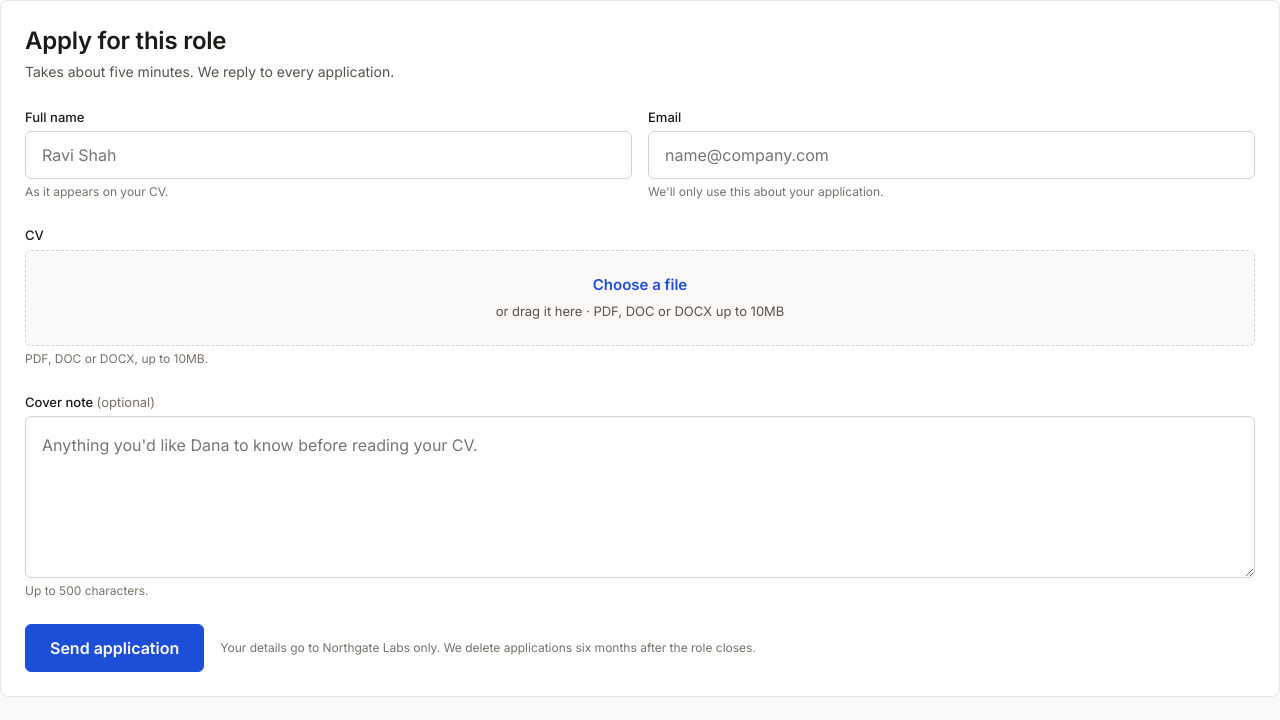
Test: ApplicationFormComponent › blocks submission and flags name, email, and CV when all are missing (AC-6)
The image size is (1280, 720).
What coordinates should you click on to do the following:
click the button with class "hf-button--primary"
I would click on:
 (115, 648)
Its box is top-left (25, 624), bottom-right (204, 672).
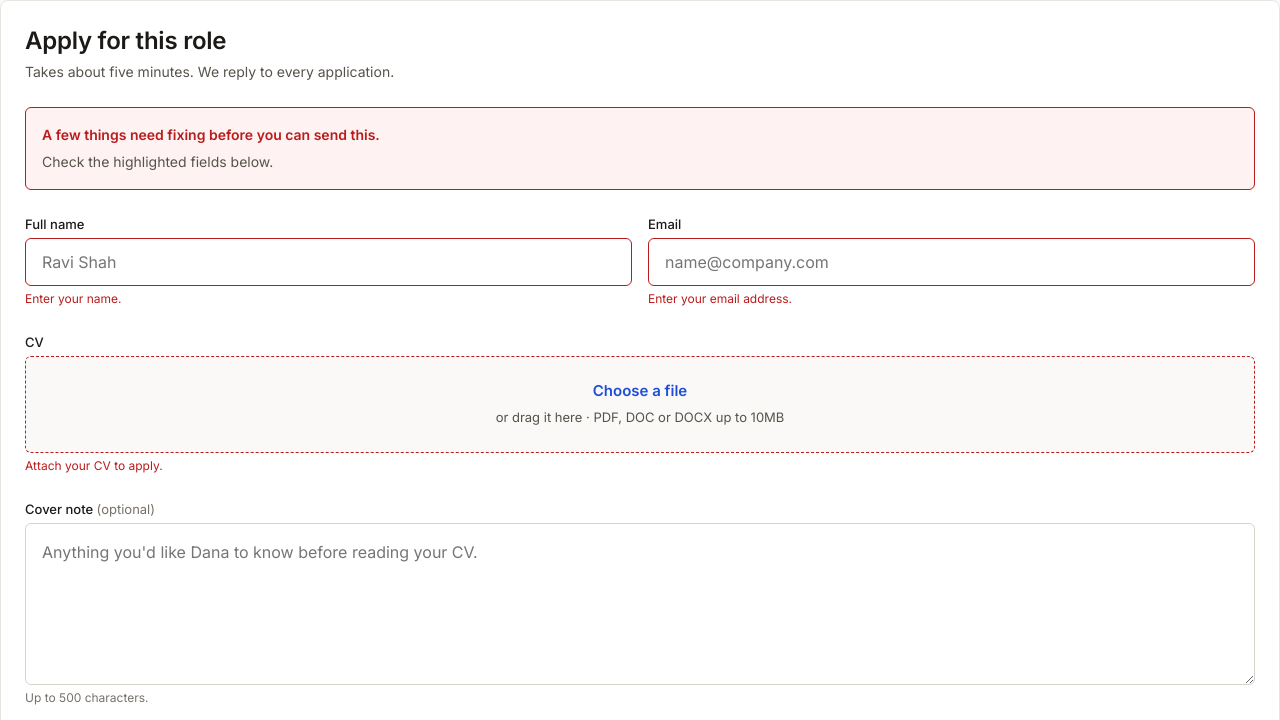
Expected: the message shows "A few things need fixing", top-left (42, 126), bottom-right (380, 143)
